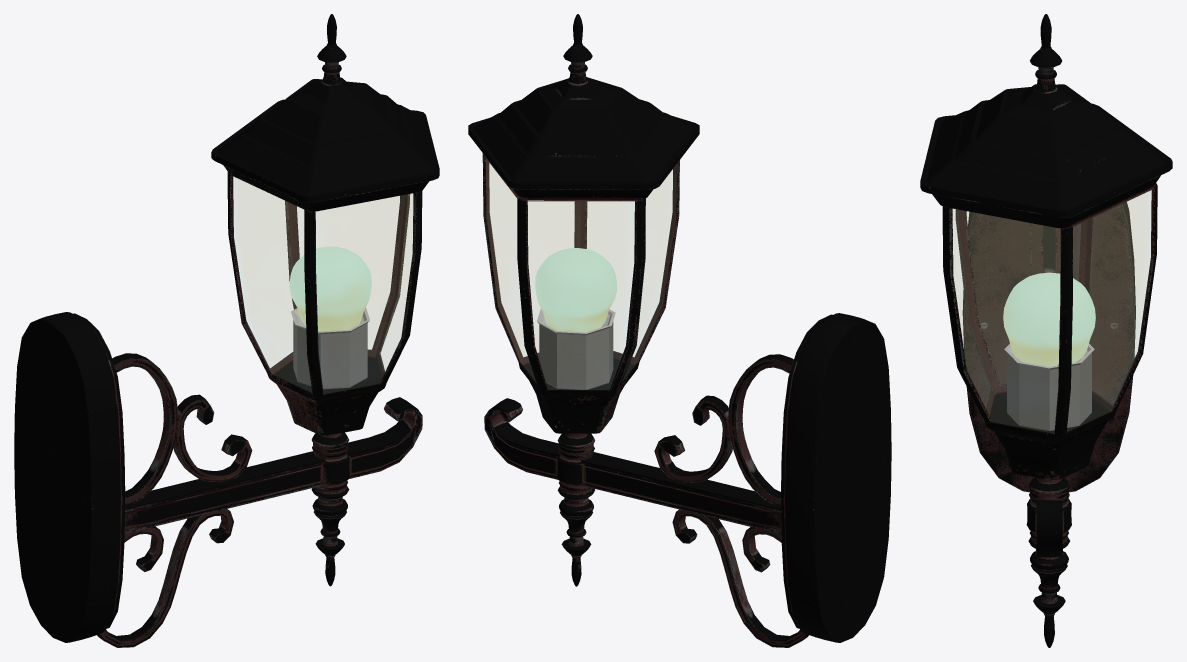
The model's file is sconce_-_wall_light_-_arandela.glb.
The picture shows the model from 3 angles, left to right: view 1: azimuth 30°, elevation 25°; view 2: azimuth 150°, elevation 25°; view 3: azimuth 270°, elevation 25°; orthographic projection. The views are drawn at different scales.
Parts seen in each view (by area): view 1: object 4, SuporteParede, Suporte2, Acabamento1, Lampada1; view 2: object 4, SuporteParede, Suporte2, Lampada1, Acabamento1; view 3: object 4, SuporteParede, Lampada1, Suporte2, Acabamento1.
Part boxes in pixels (x1=…): object 4: x1=211, y1=77, x2=439, y2=435; SuporteParede: x1=14, y1=312, x2=125, y2=642; Suporte2: x1=124, y1=14, x2=422, y2=586; Acabamento1: x1=97, y1=353, x2=252, y2=647; Lampada1: x1=289, y1=246, x2=371, y2=389; object 4: x1=468, y1=77, x2=699, y2=433; SuporteParede: x1=781, y1=313, x2=891, y2=642; Suporte2: x1=484, y1=14, x2=781, y2=586; Lampada1: x1=535, y1=248, x2=616, y2=389; Acabamento1: x1=654, y1=354, x2=808, y2=647; object 4: x1=920, y1=84, x2=1172, y2=480; SuporteParede: x1=962, y1=202, x2=1135, y2=492; Lampada1: x1=1003, y1=272, x2=1095, y2=430; Suporte2: x1=1026, y1=14, x2=1071, y2=647; Acabamento1: x1=1043, y1=225, x2=1055, y2=272.
Size of the model in its own units: 0.9177 by 1.35 by 0.4794.
6 materials, 6 textured.
